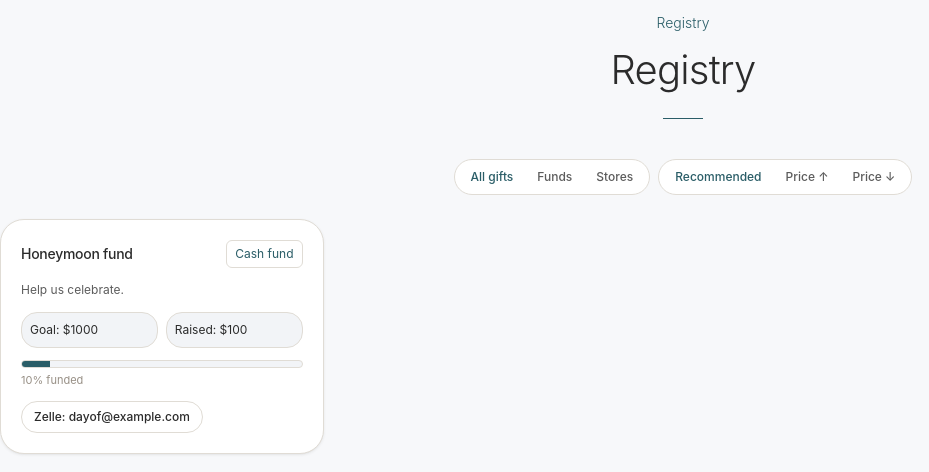
Test case: RegistrySection › ignores stale public cash-fund Zelle copy completions after the visible handle changes
Later steps or results of the test are not shown.
Click the button "Zelle: dayof@example.com" at (112, 418), box [21, 402, 203, 434]
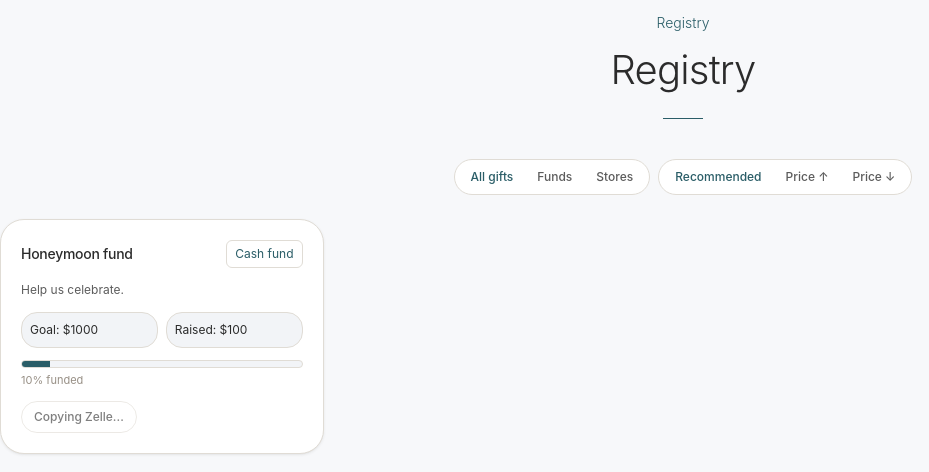
Result: the button "Copying Zelle..." is shown at [21, 402, 137, 434]
